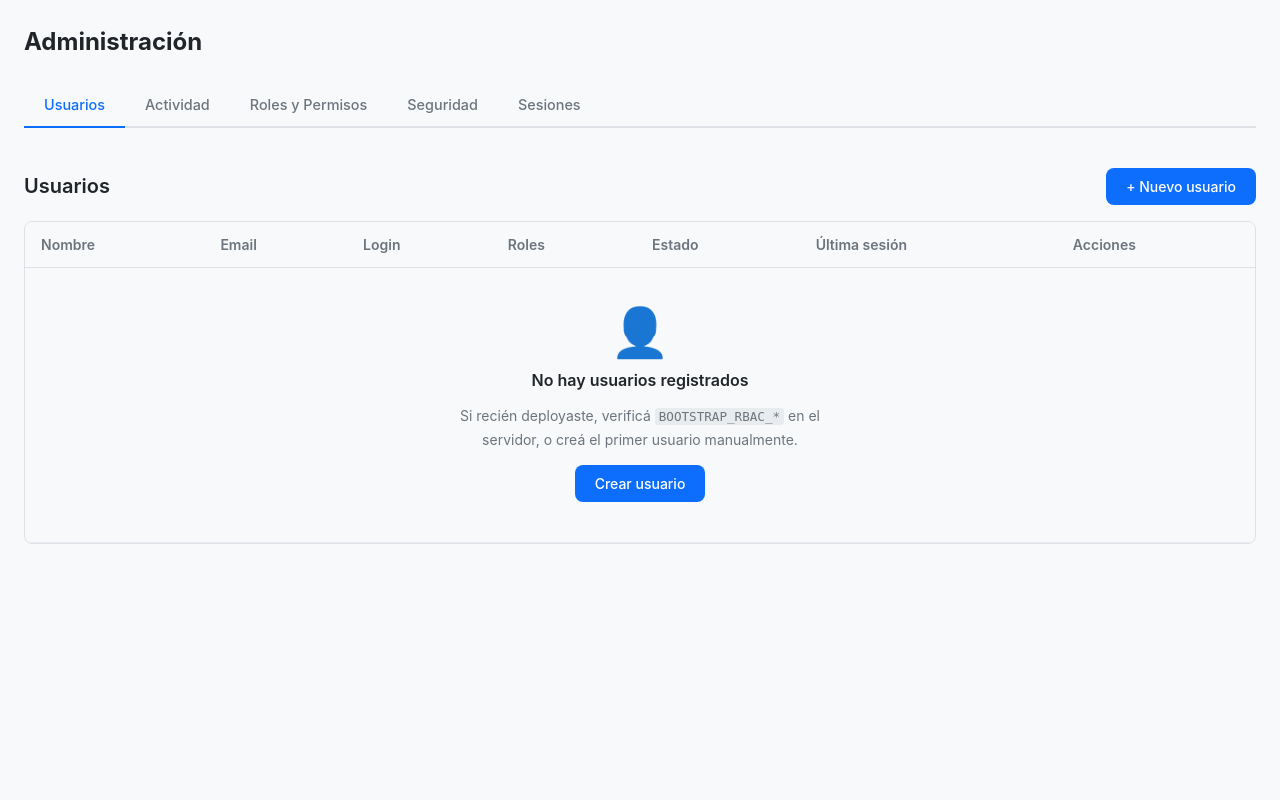
Test case: AdminPage › clicking "Nuevo usuario" shows RbacUserModal
Click the button "+ Nuevo usuario".
click(1181, 186)  # box left=1106, top=168, right=1256, bottom=205
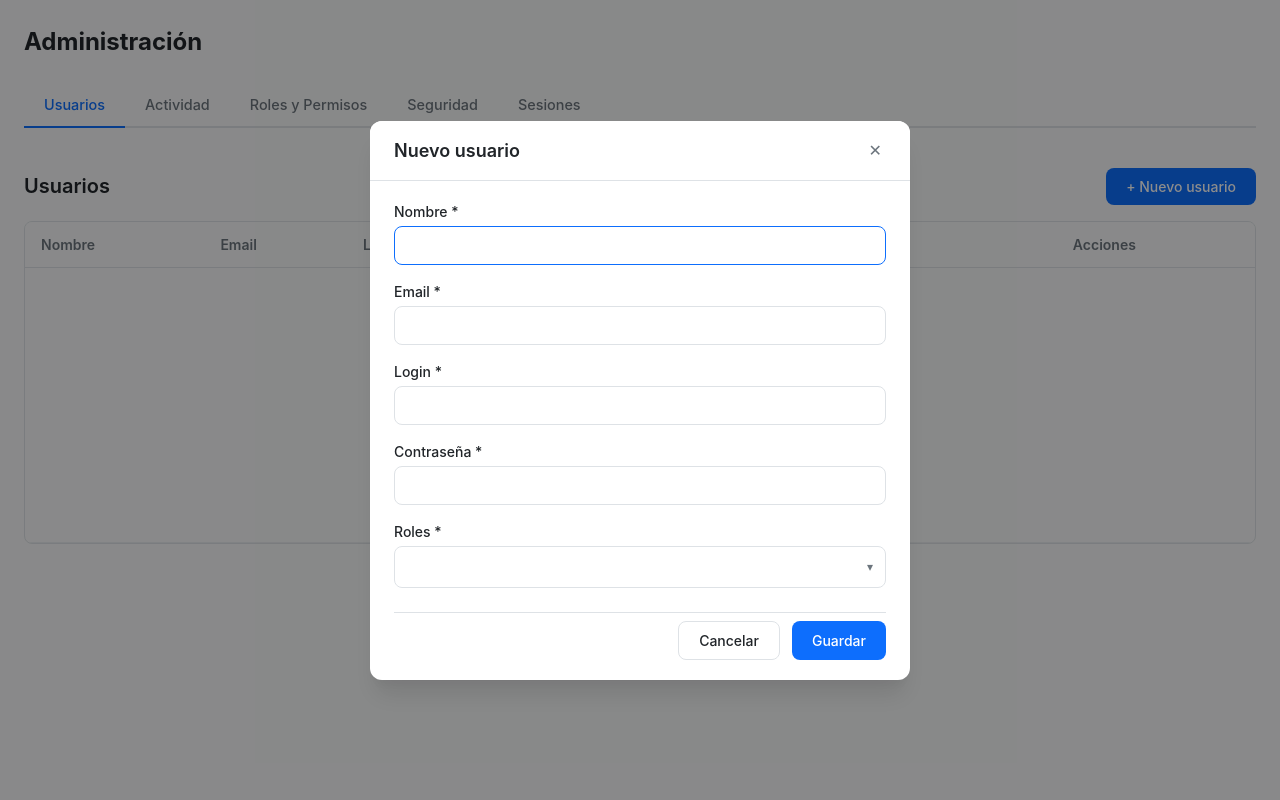
Now the dialog is shown, box left=370, top=120, right=910, bottom=680
Now the field labelled "Nombre *" is shown, box left=394, top=226, right=886, bottom=264
Now the field labelled "Email *" is shown, box left=394, top=306, right=886, bottom=344
